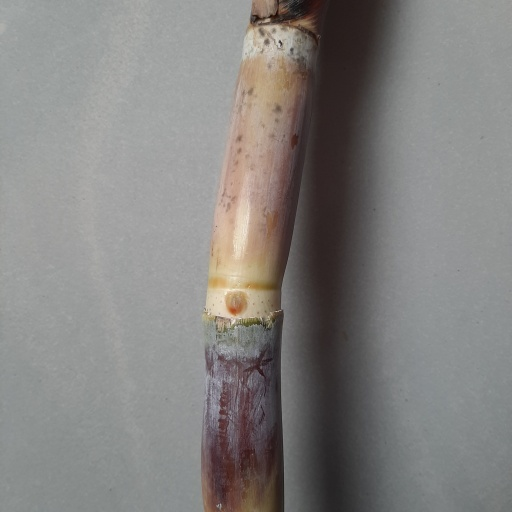Bud: (224, 290, 249, 318)
